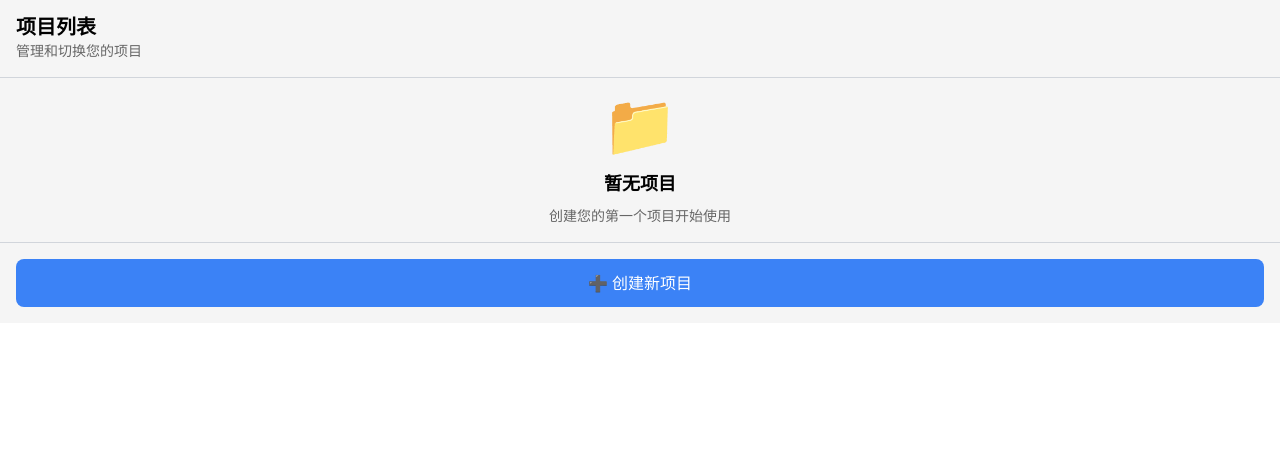
ProjectPanel › 创建项目 › 应该创建本地项目
Click the button "➕ 创建新项目" at (640, 283), box [16, 259, 1264, 307]
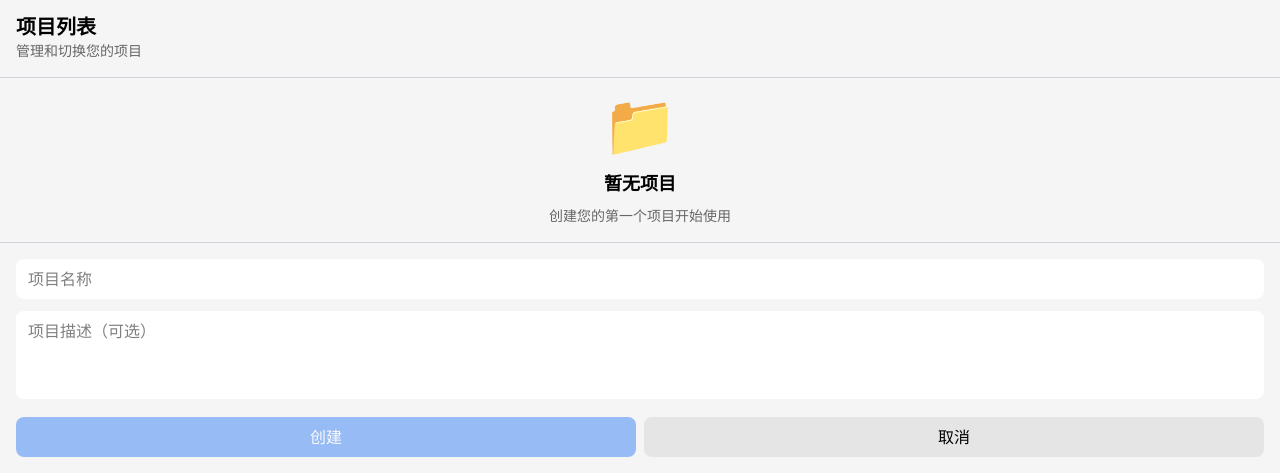
Type "新项目" into the field with placeholder "项目名称" at (640, 279), box [16, 259, 1264, 299]
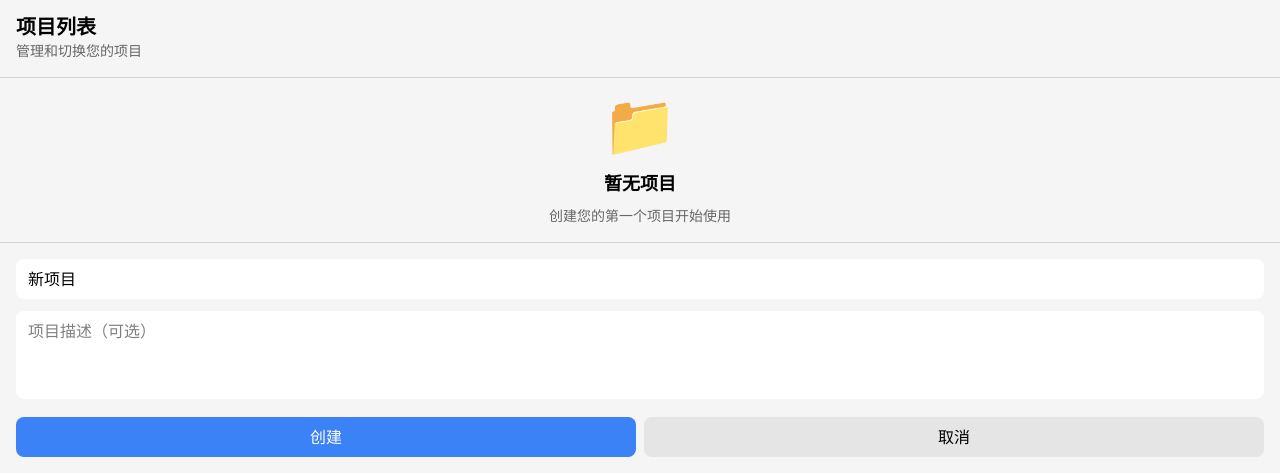
Click the button "创建" at (326, 437), box [16, 417, 636, 457]
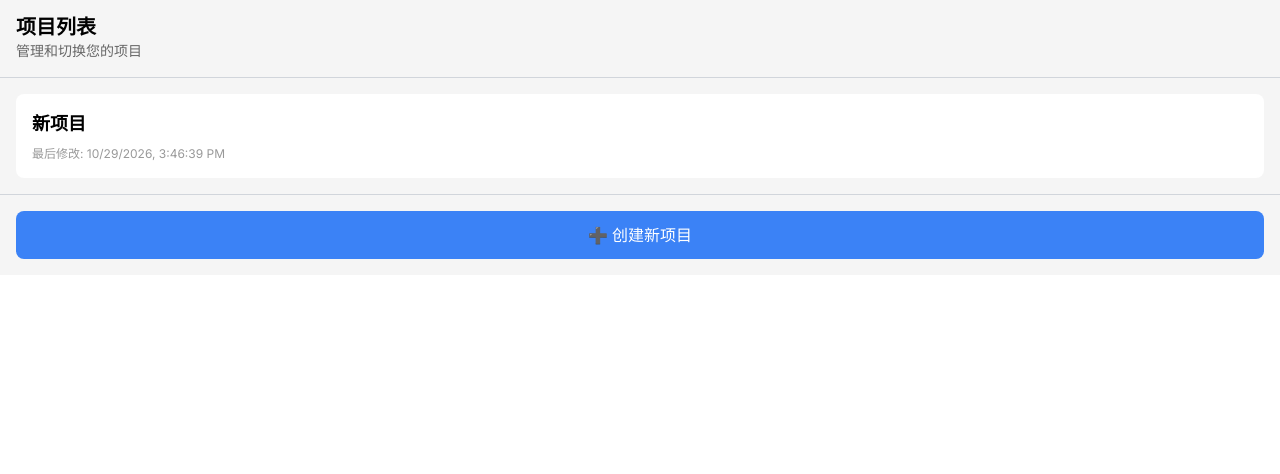
Expected: the heading "新项目" is shown, [32, 110, 86, 138]
